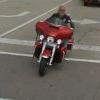Motorcycle: (28, 5, 77, 82)
